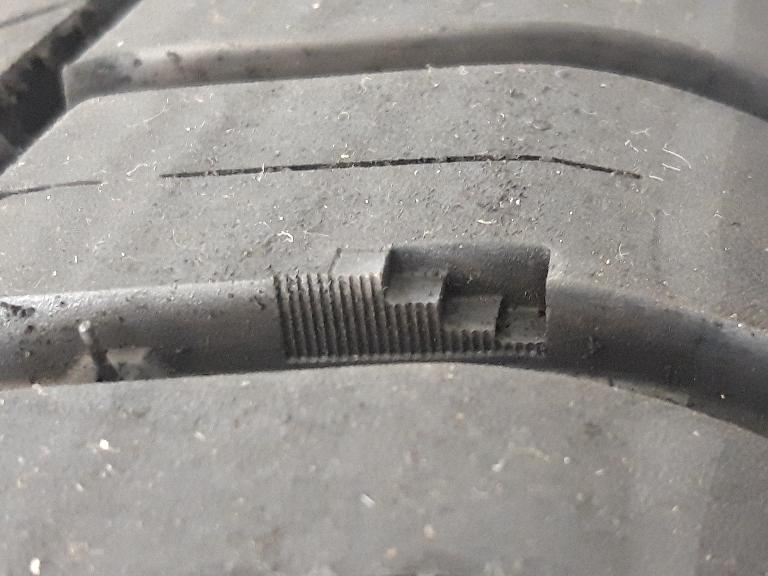temoin:75: (318, 228, 568, 376)
